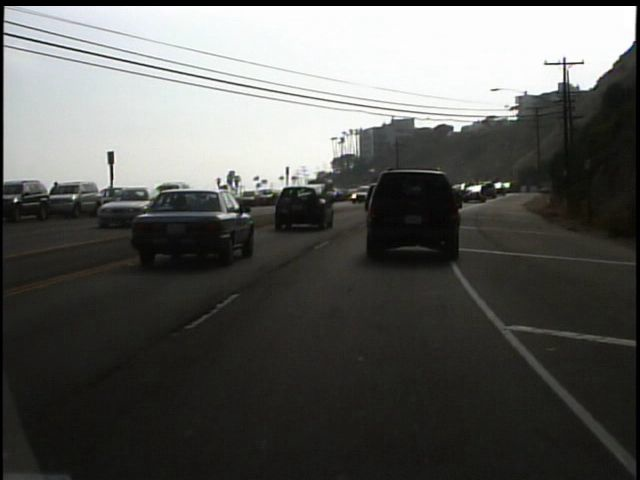person: (50, 179, 67, 193)
